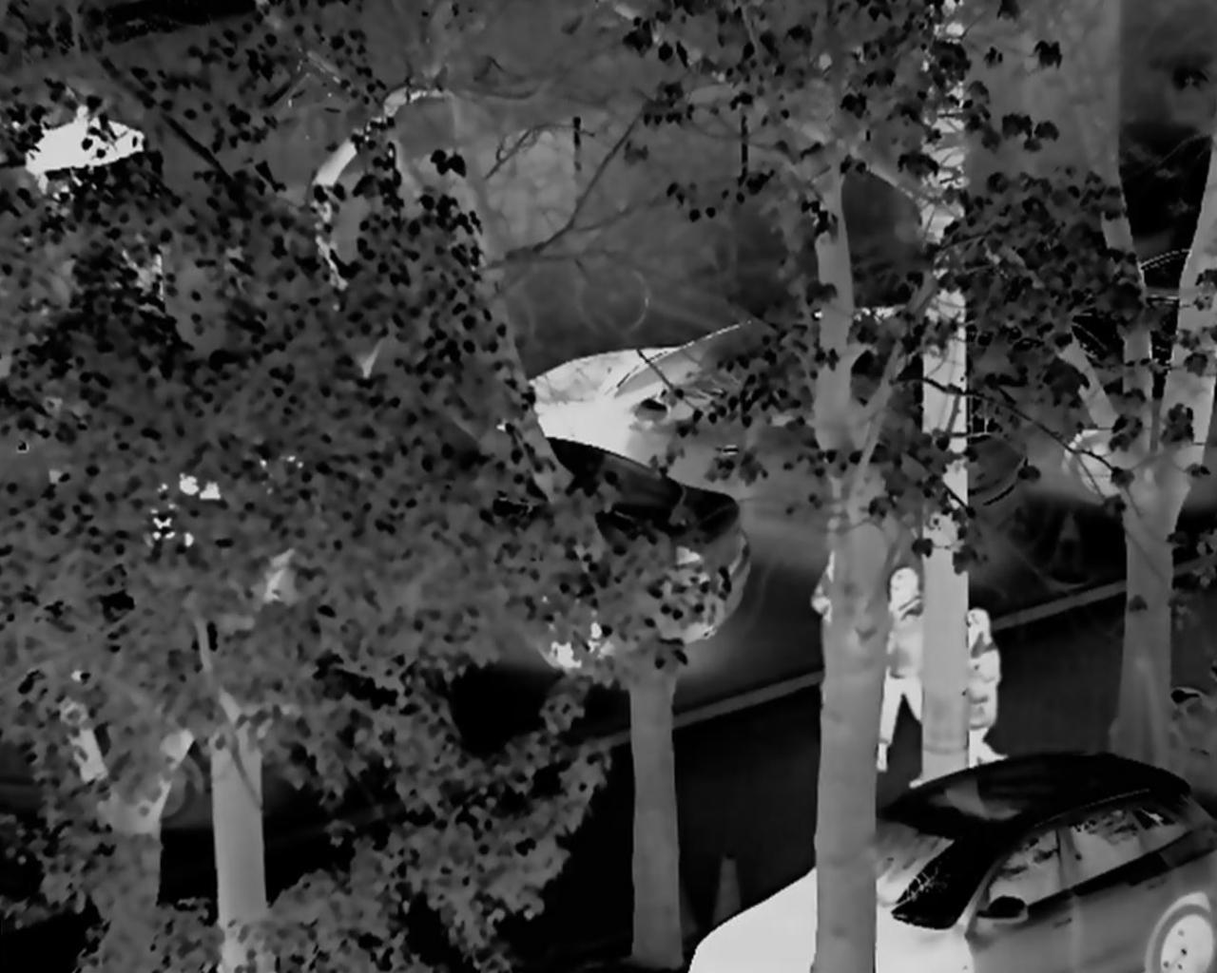person: (812, 547, 876, 753), (883, 567, 946, 772), (939, 608, 1007, 774)
